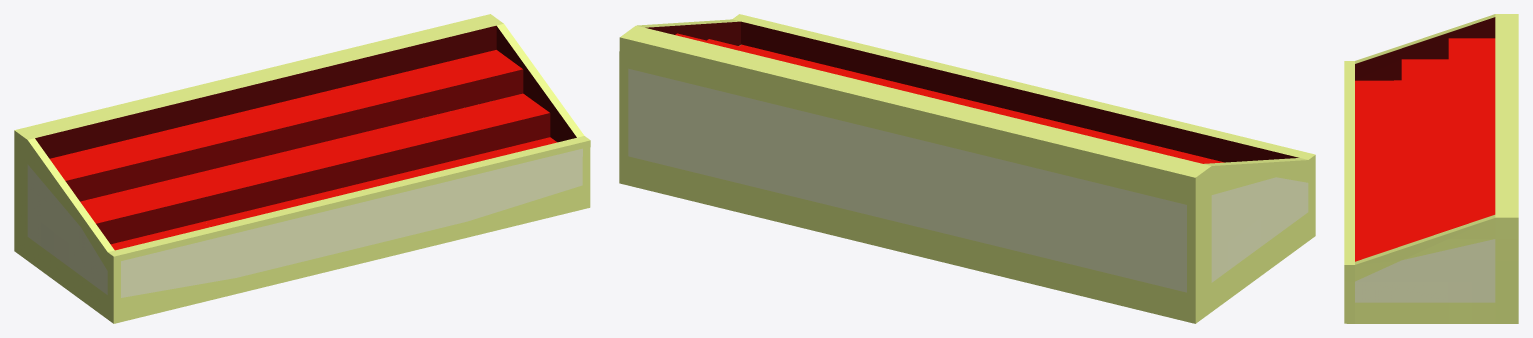
Rendered from Stands.fbx.
3 views of the same model, side by side, from view 1: azimuth 30°, elevation 25°; view 2: azimuth 150°, elevation 25°; view 3: azimuth 270°, elevation 25° (orthographic). The views are drawn at different scales.
Visible parts, largest first — view 1: Stands; view 2: Stands; view 3: Stands.
Part boxes in pixels (x1,y1,x2,y2): Stands: (14,14,590,323); Stands: (619,14,1315,323); Stands: (1344,14,1518,323).
Size of the model in its own units: 48.6 by 32.59 by 134.
